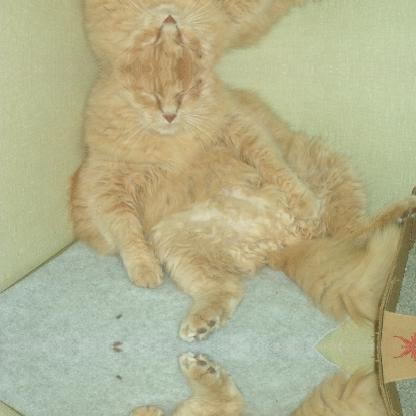Cat: (67, 68, 415, 344), (67, 0, 416, 69), (67, 349, 416, 415)
